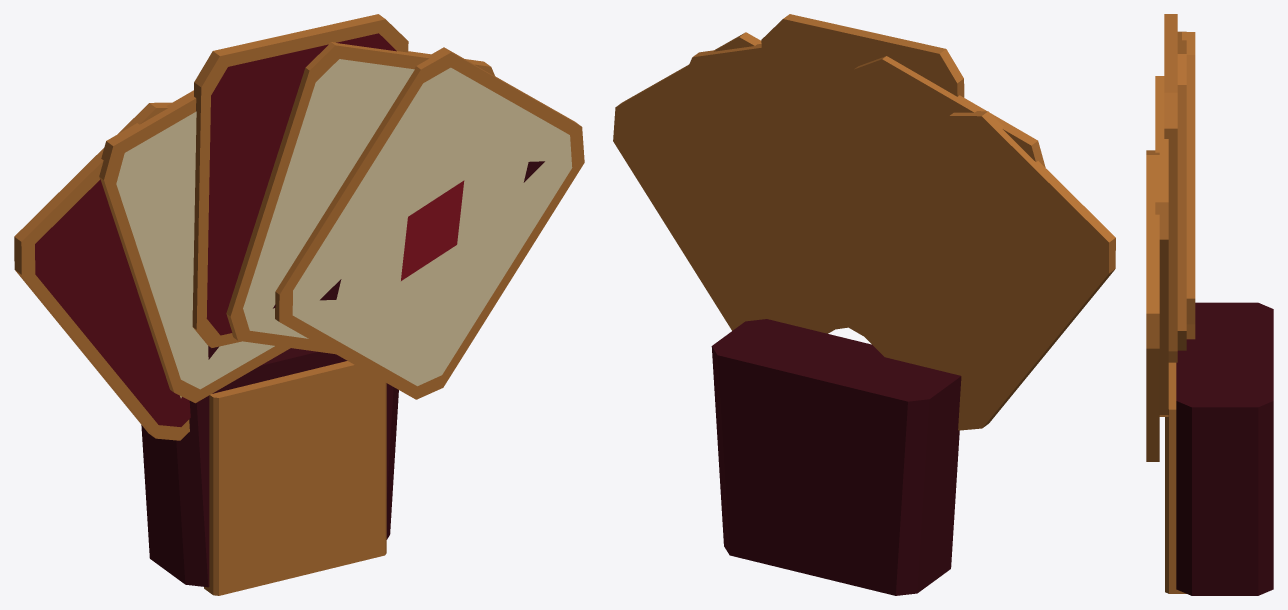
Rendered from prop-cardsharp-deck.glb.
3 renders of one model, left to right at view 1: azimuth 30°, elevation 25°; view 2: azimuth 150°, elevation 25°; view 3: azimuth 270°, elevation 25°, orthographic. The views are drawn at different scales.
Parts seen in each view (by area): view 1: prop-cardsharp-deck; view 2: prop-cardsharp-deck; view 3: prop-cardsharp-deck.
Part boxes in pixels (box(x1,y1,x2,y2)): prop-cardsharp-deck: box(14, 14, 584, 595); prop-cardsharp-deck: box(613, 14, 1115, 595); prop-cardsharp-deck: box(1146, 14, 1273, 595).
Size of the model in its own units: 0.21 by 0.1991 by 0.0465.
1 material, 1 textured.
